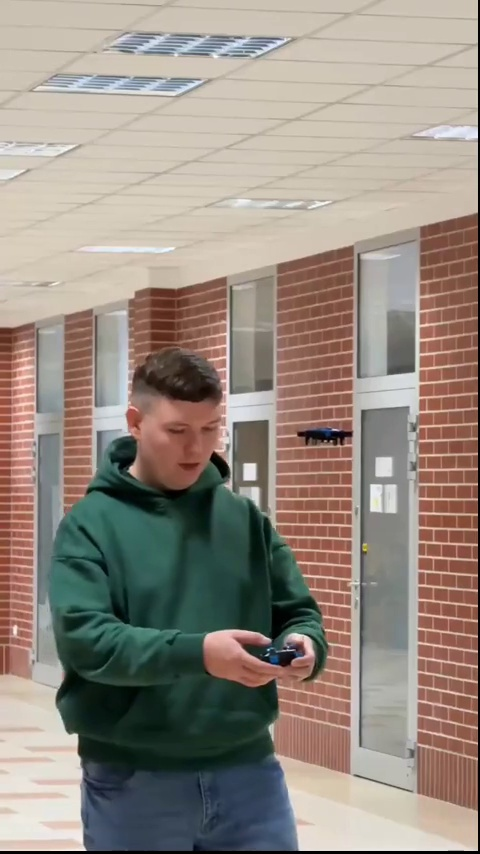drone: (294, 424, 354, 448)
no vest: (56, 342, 309, 848)
